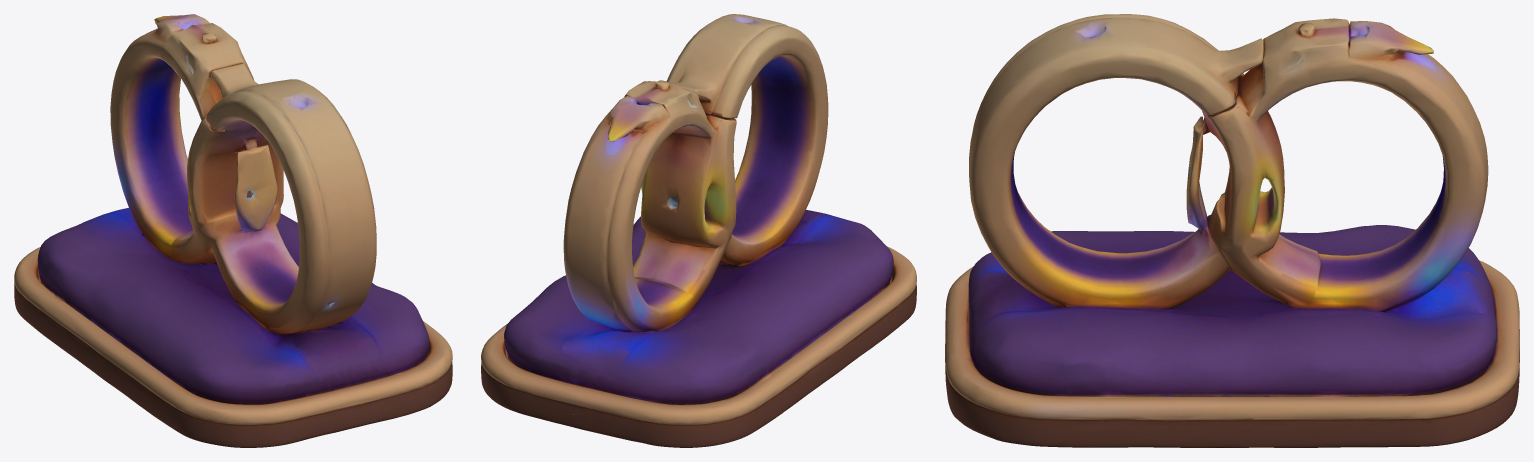
Rendered from twin_ring.glb.
The picture shows the model from 3 angles, left to right: view 1: azimuth 30°, elevation 25°; view 2: azimuth 150°, elevation 25°; view 3: azimuth 270°, elevation 25°; orthographic projection. The views are drawn at different scales.
Visible parts, largest first — view 1: tripo_node_46c39c87-eb7d-4dd5-a70e-31f97bb7c962; view 2: tripo_node_46c39c87-eb7d-4dd5-a70e-31f97bb7c962; view 3: tripo_node_46c39c87-eb7d-4dd5-a70e-31f97bb7c962.
Boxes of the visible parts, bbox=[...] form: tripo_node_46c39c87-eb7d-4dd5-a70e-31f97bb7c962: bbox=[14, 14, 452, 447]; tripo_node_46c39c87-eb7d-4dd5-a70e-31f97bb7c962: bbox=[481, 14, 916, 447]; tripo_node_46c39c87-eb7d-4dd5-a70e-31f97bb7c962: bbox=[945, 14, 1519, 447].
Bounding box in the file's own units: 0.6497 × 0.6542 × 0.98.
1 material, 1 textured.
